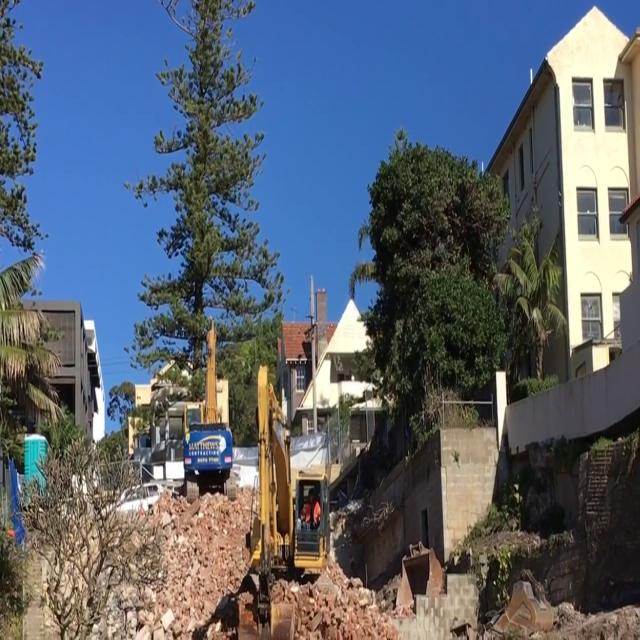excavator: (228, 364, 334, 640), (179, 327, 235, 499)
